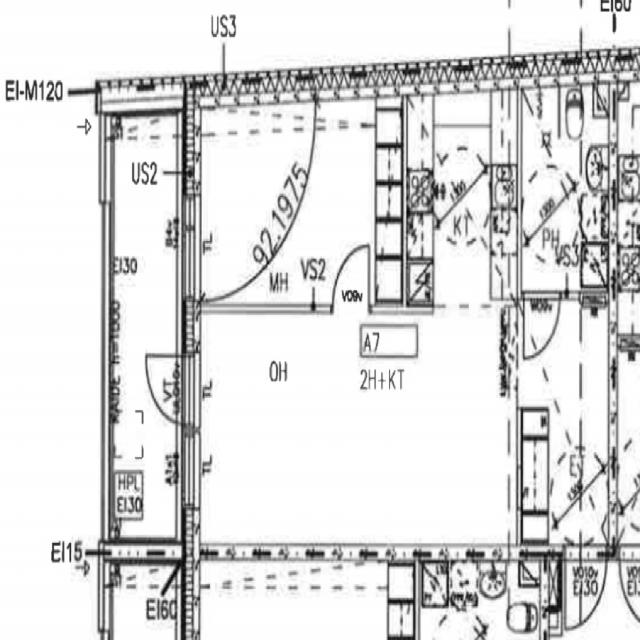door: (140, 355, 202, 424), (565, 542, 607, 630), (333, 244, 369, 312), (523, 292, 559, 360)
